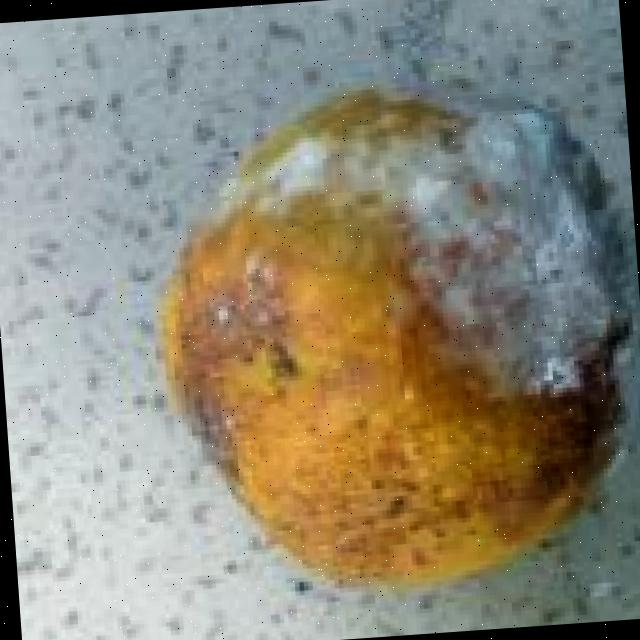Bad_Lime-0-1-day: (157, 83, 637, 588)
